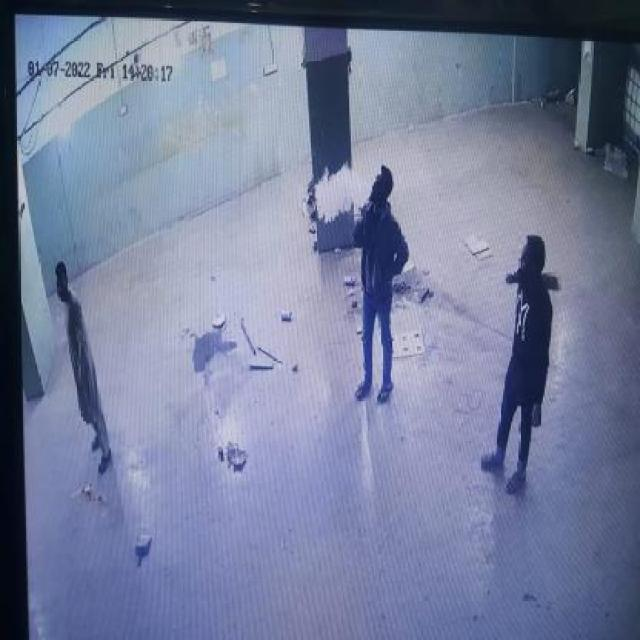fire: (312, 157, 378, 225)
